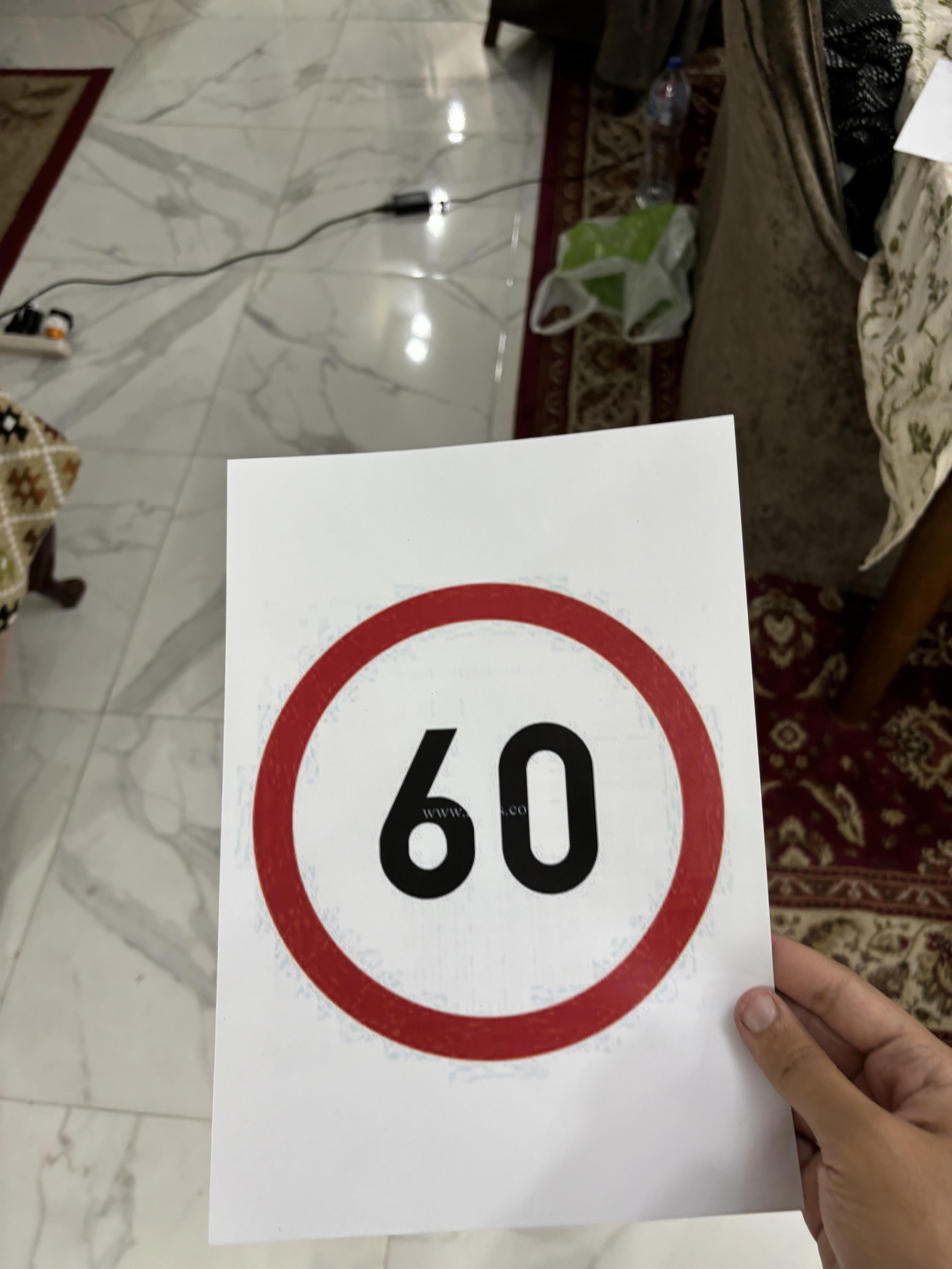60-Speed: (238, 574, 737, 1062)
